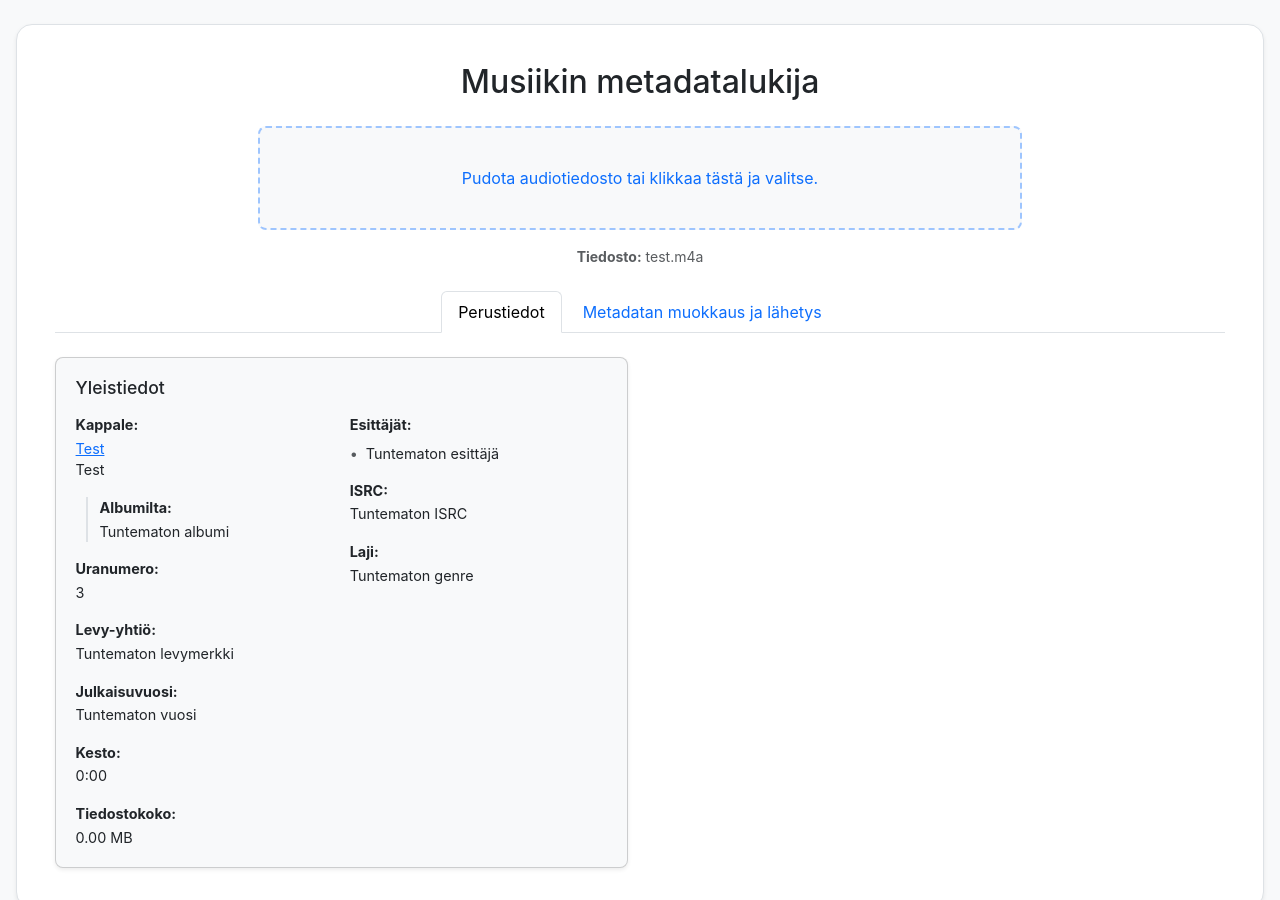
updates the track catalog number as the album ID is typed or pasted
The image size is (1280, 900).
Earlier steps of the test are not shown.
Later steps or results of the test are not shown.
Click the tab "Metadatan muokkaus ja lähetys" at (702, 312), box [566, 291, 839, 333]
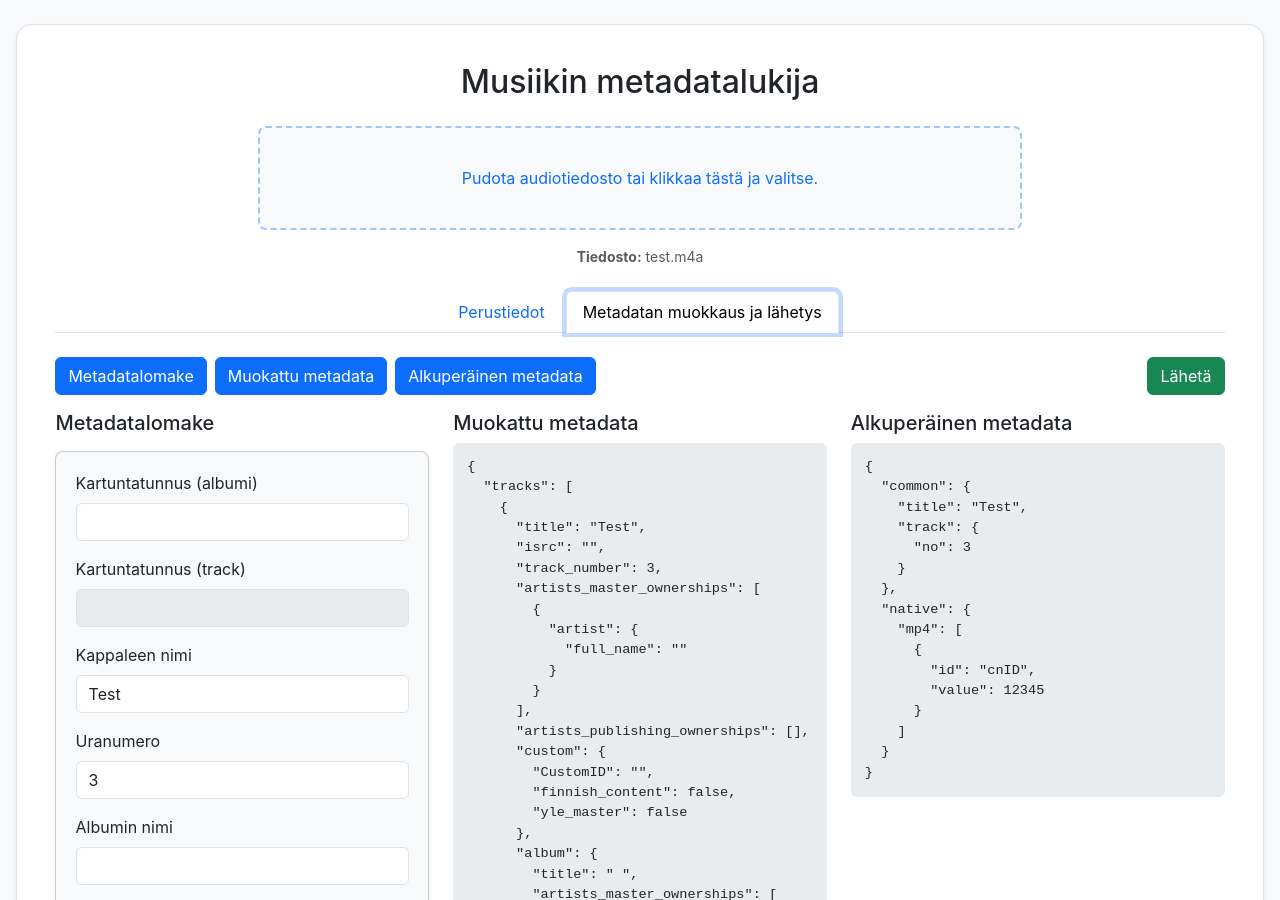
Type "A" into the field labelled "Kartuntatunnus (albumi)" at (242, 522), box [76, 503, 409, 541]
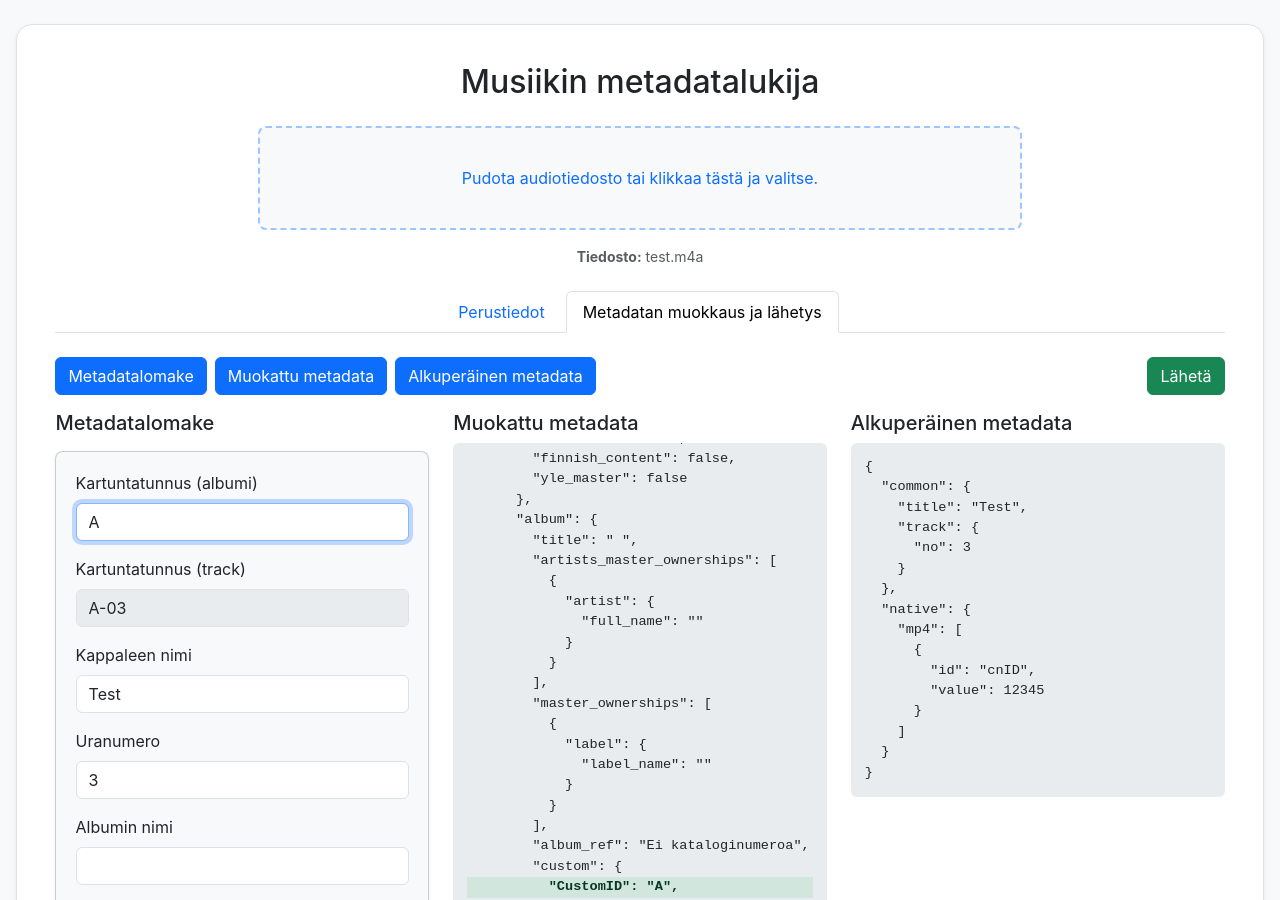
Expected: the field labelled "Kartuntatunnus (track)" holds "A-03", [76, 589, 409, 627]
Type "B" into the field labelled "Kartuntatunnus (albumi)" at (242, 522), box [76, 503, 409, 541]
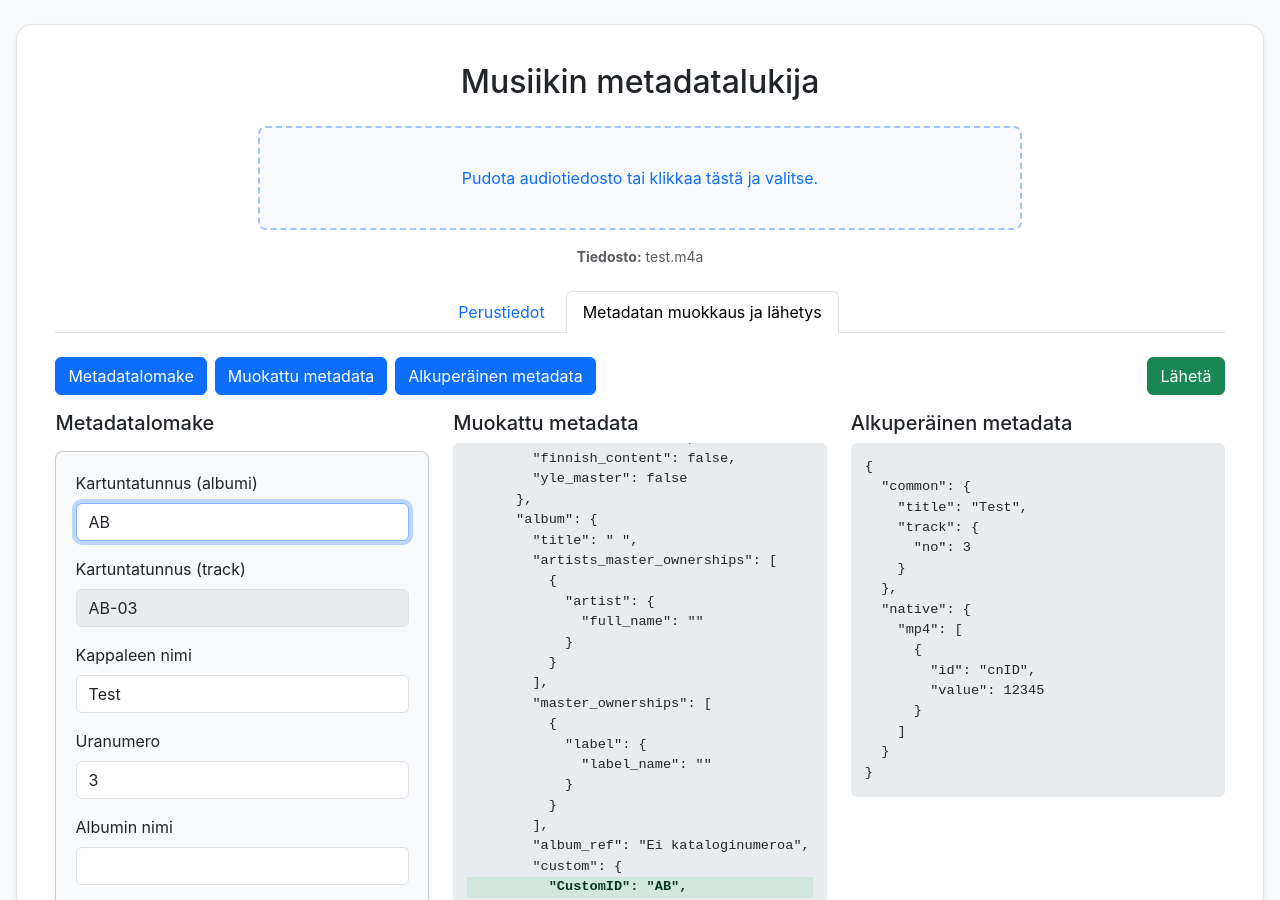
Expected: the field labelled "Kartuntatunnus (track)" holds "AB-03", [76, 589, 409, 627]
Type "1" into the field labelled "Kartuntatunnus (albumi)" at (242, 522), box [76, 503, 409, 541]
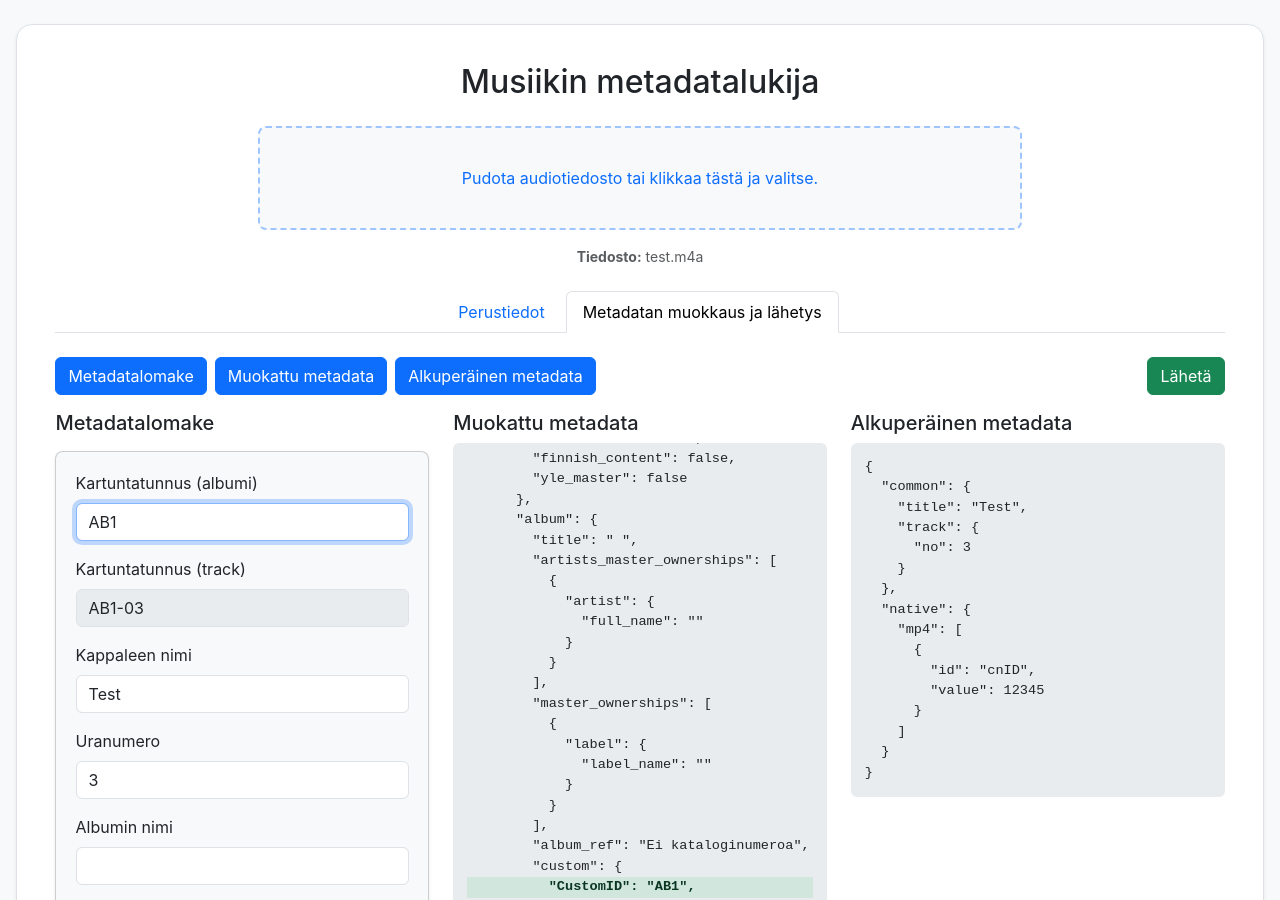
Expected: the field labelled "Kartuntatunnus (track)" holds "AB1-03", [76, 589, 409, 627]
Clear the field labelled "Kartuntatunnus (albumi)" at (242, 522), box [76, 503, 409, 541]
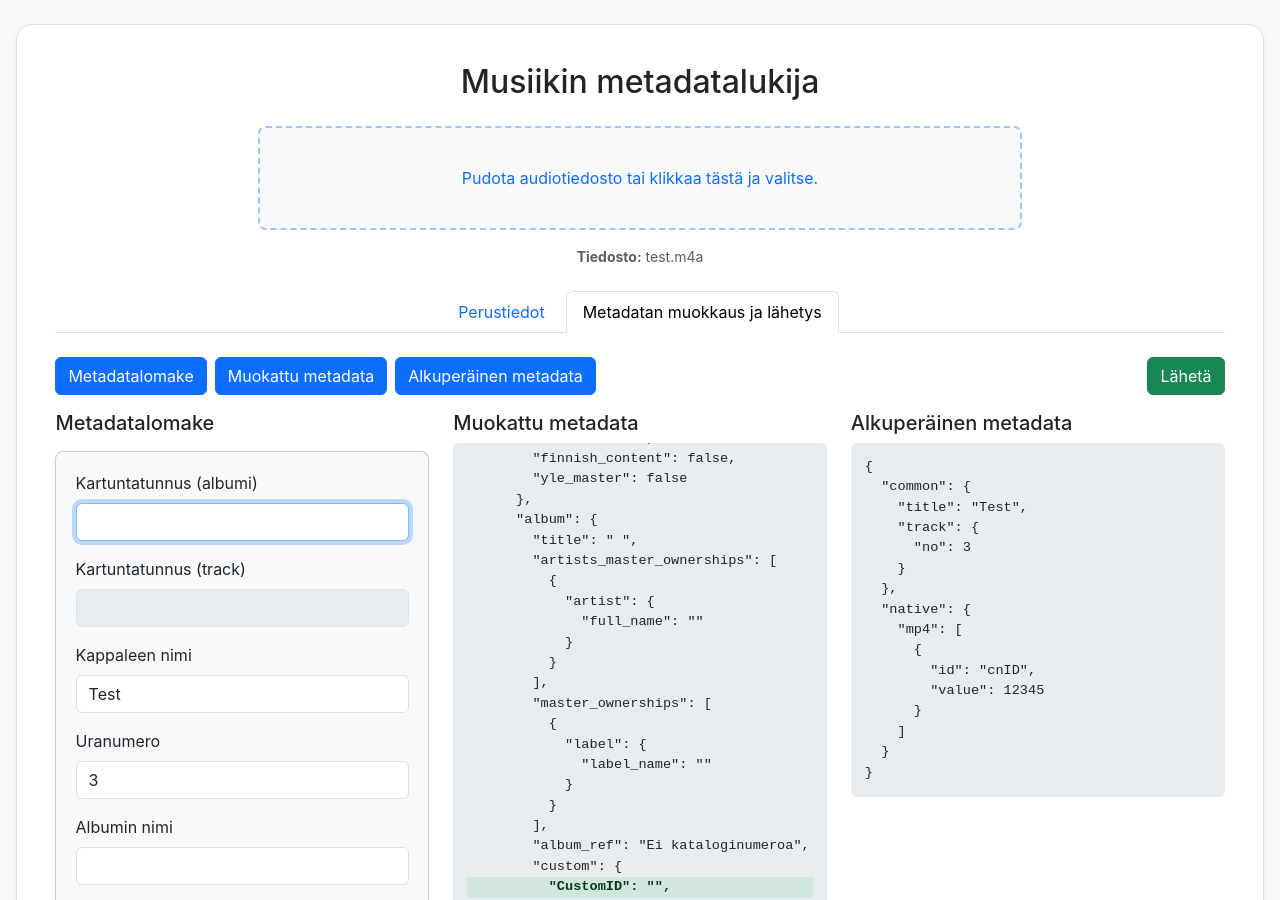
Expected: the field labelled "Kartuntatunnus (track)" is empty, [76, 589, 409, 627]
Type "PASTED-123" into the field labelled "Kartuntatunnus (albumi)" at (242, 522), box [76, 503, 409, 541]
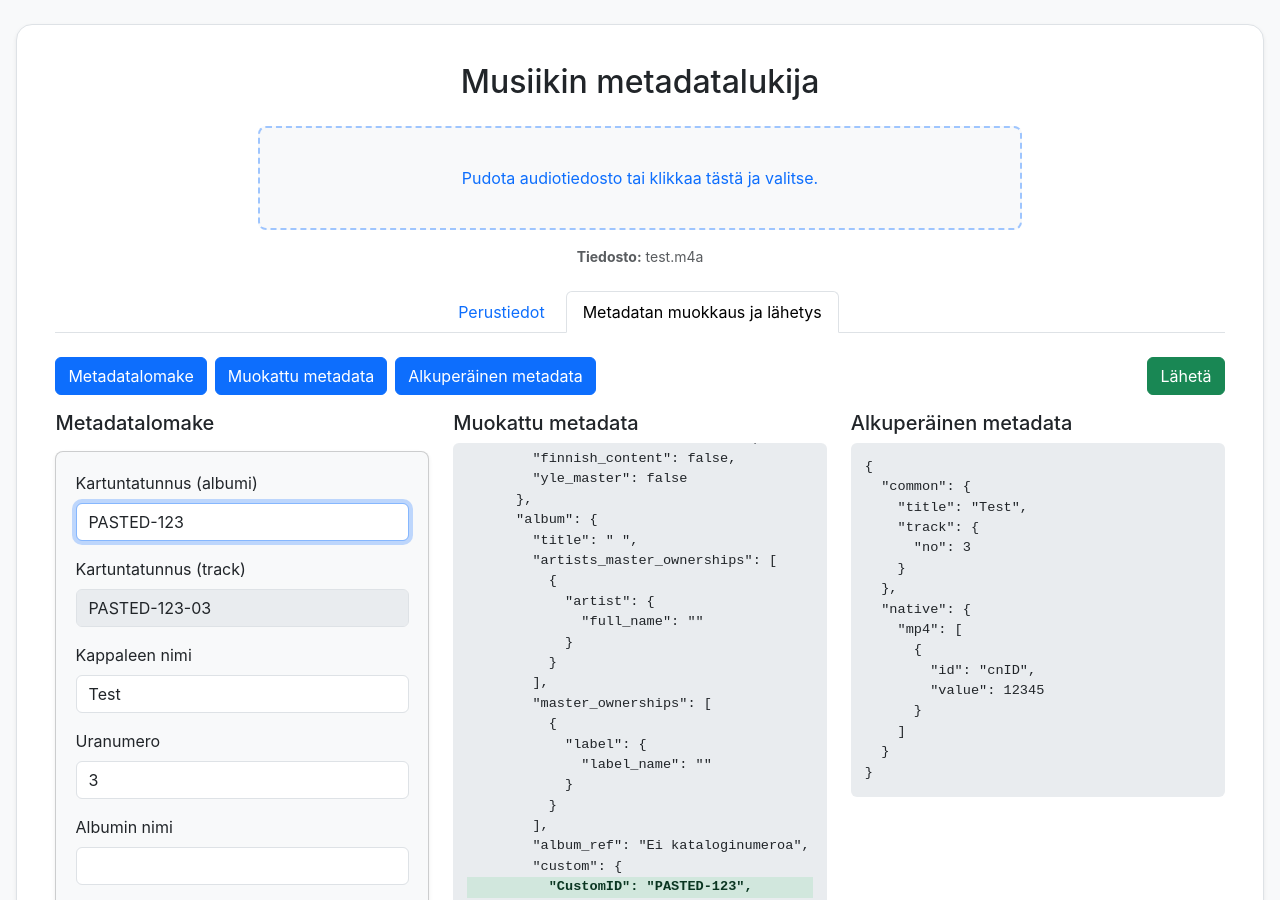
Expected: the number field labelled "Uranumero" holds "3", [76, 761, 409, 799]
Expected: the field labelled "Kartuntatunnus (track)" holds "PASTED-123-03", [76, 589, 409, 627]
